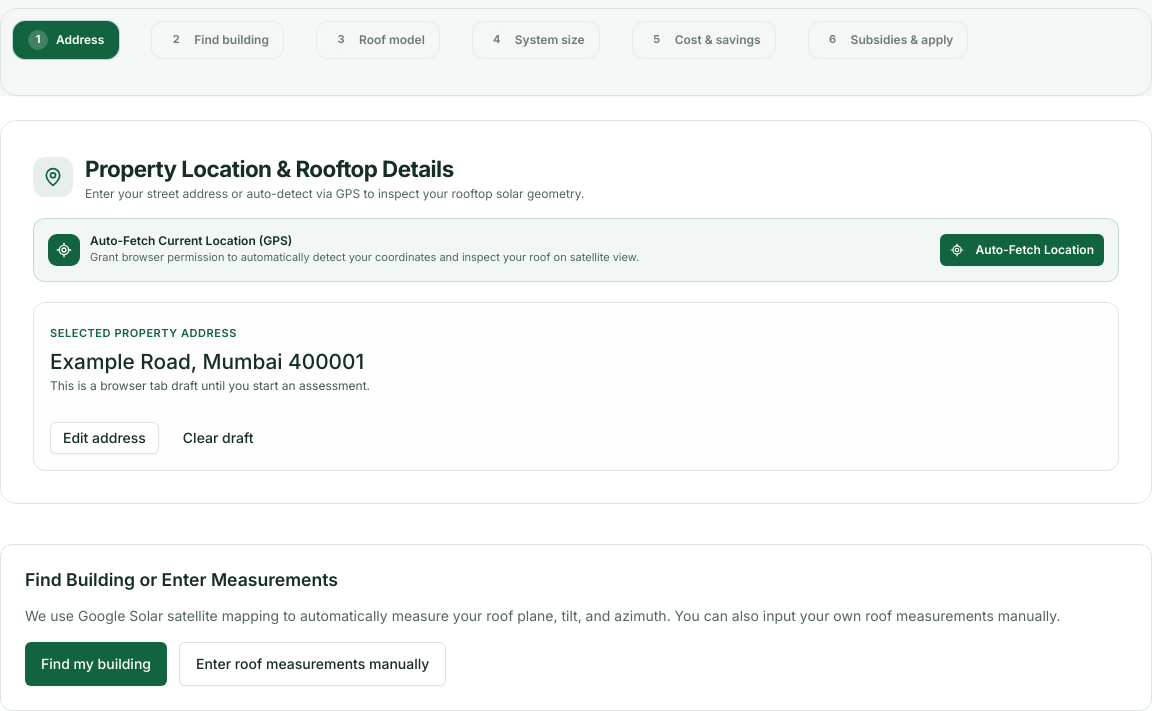
roof analysis flow › rejects inconsistent horizontal dimensions before submitting manual measurements
(page scrolled)
Check: the text "Example Road, Mumbai 400001" is shown, box left=50, top=346, right=370, bottom=378
Click the button "Enter roof measurements manually" at (313, 664), box left=179, top=642, right=446, bottom=686
(page scrolled)
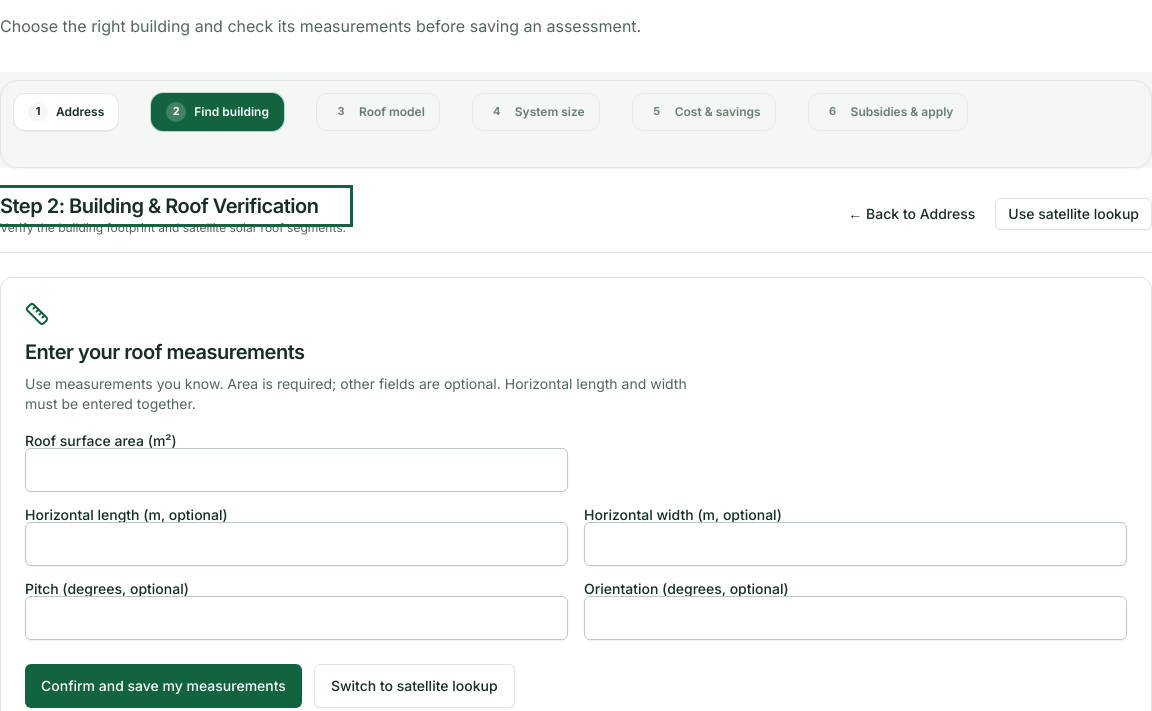
Type "35" into the number field labelled "Roof surface area (m²)" at (296, 470), box left=25, top=448, right=568, bottom=492
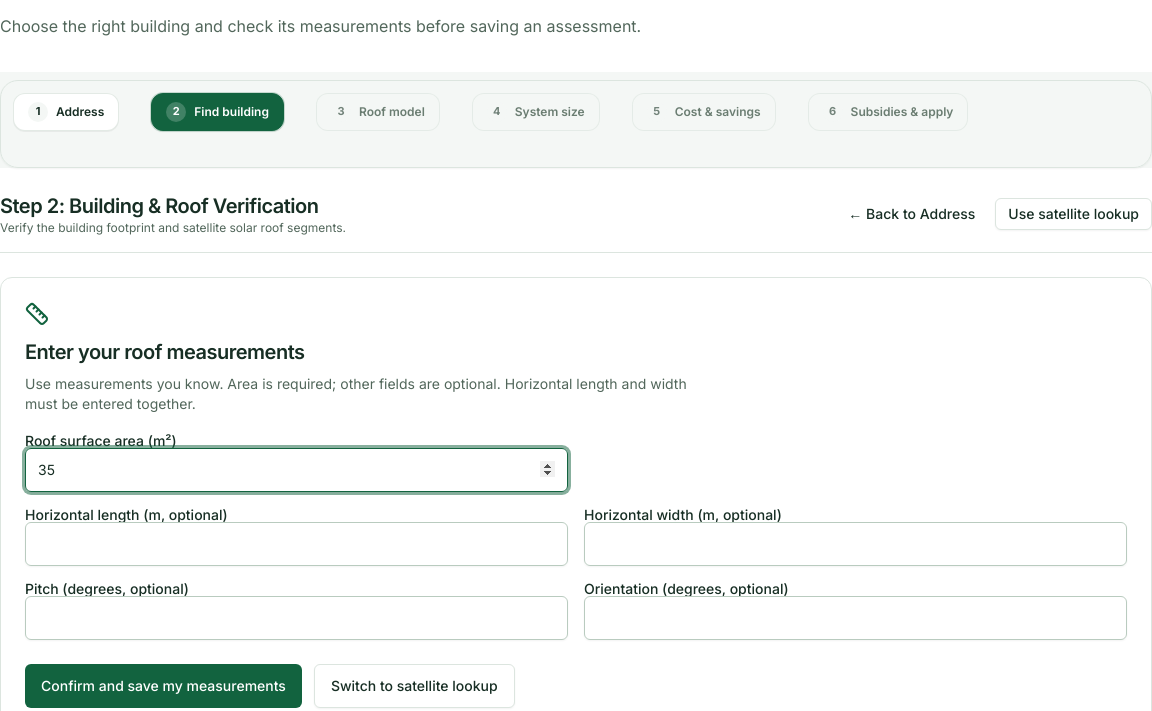
Type "10" into the number field labelled "Horizontal length (m, optional)" at (296, 544), box left=25, top=522, right=568, bottom=566
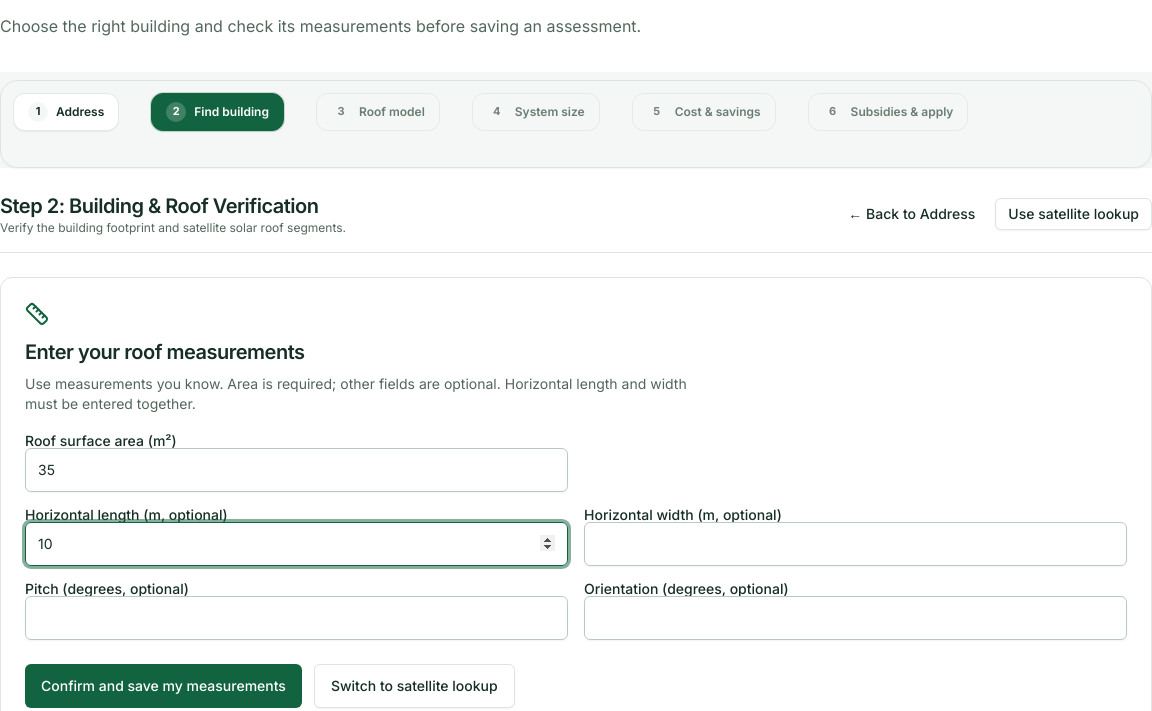
Type "10" into the number field labelled "Horizontal width (m, optional)" at (856, 544), box left=584, top=522, right=1127, bottom=566
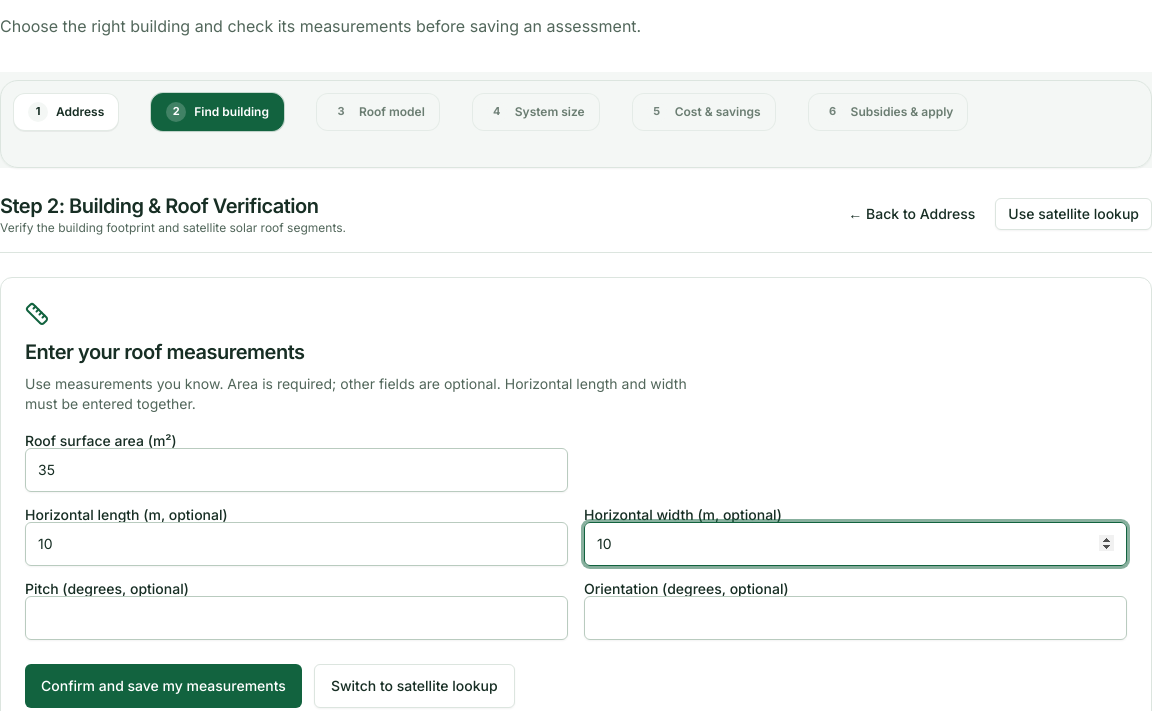
Click the button "Confirm and save my measurements" at (163, 686), box left=25, top=664, right=302, bottom=708
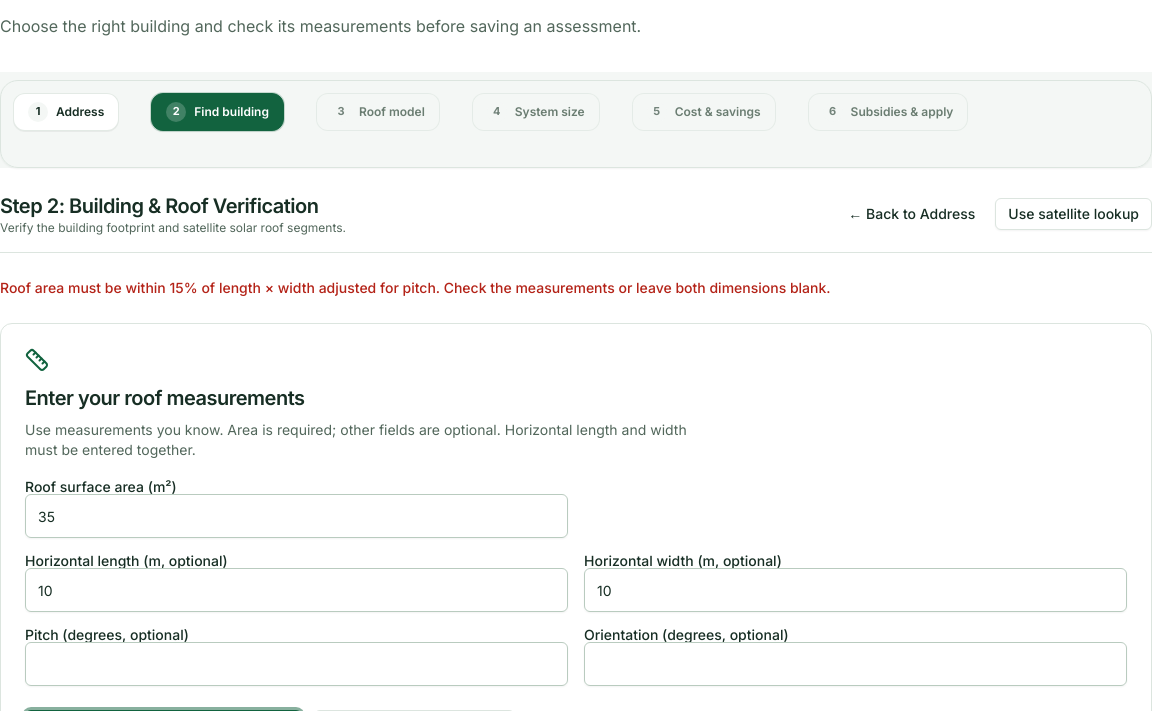
Check: the message shows "within 15%", box left=0, top=279, right=831, bottom=296
